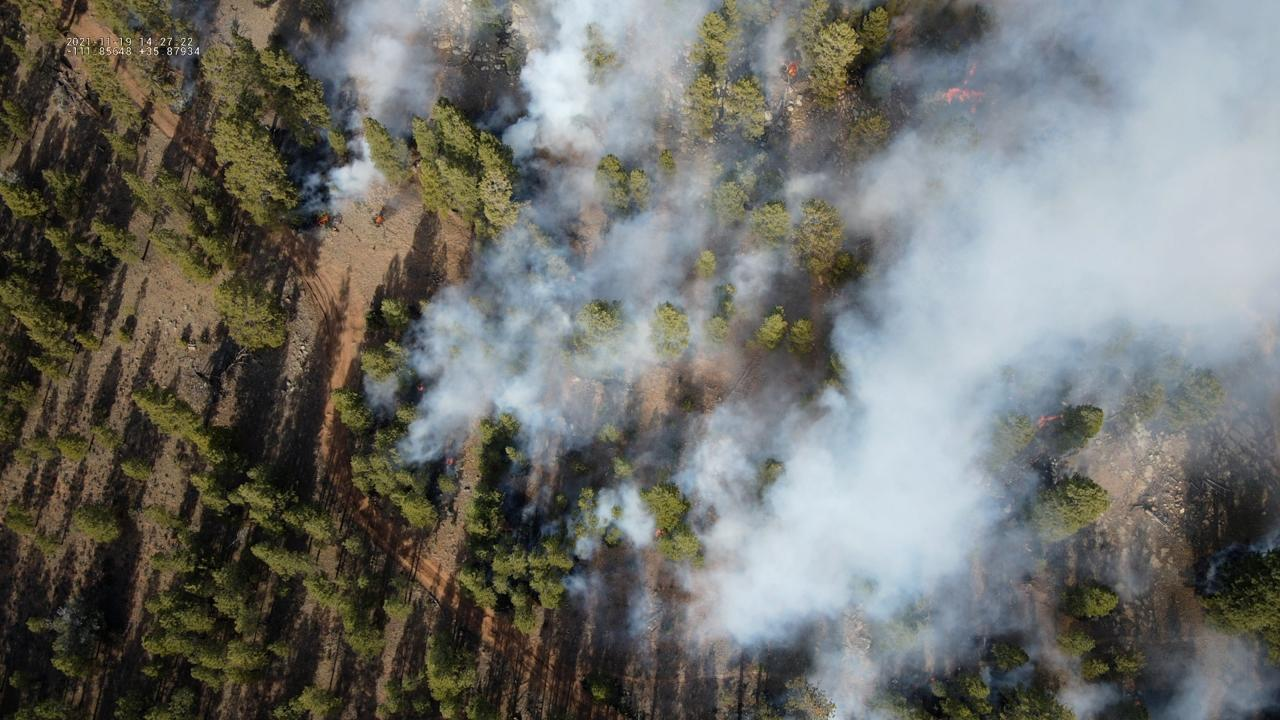fire: (942, 87, 985, 106), (1037, 413, 1065, 428), (787, 62, 799, 79), (444, 456, 454, 468), (968, 64, 978, 75), (655, 528, 664, 538), (960, 77, 970, 86), (319, 215, 328, 224), (374, 216, 384, 224), (416, 384, 425, 392), (969, 106, 978, 114)
smoke: (281, 0, 1280, 720), (163, 0, 219, 114), (125, 13, 144, 34)
